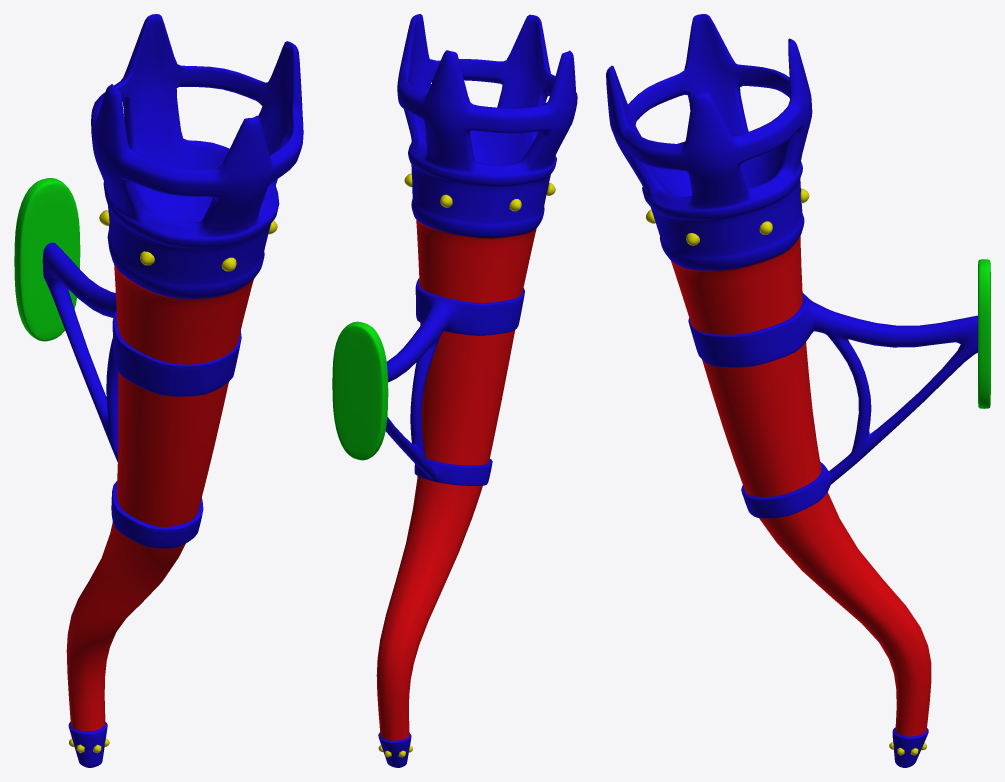
The model's file is FBXtorch.fbx.
The picture shows the model from 3 angles, left to right: view 1: azimuth 30°, elevation 25°; view 2: azimuth 150°, elevation 25°; view 3: azimuth 270°, elevation 25°; orthographic projection. The views are drawn at different scales.
Visible parts, largest first — view 1: torch_low; view 2: torch_low; view 3: torch_low.
Boxes of the visible parts, box(x1,y1,x2,y2) form: torch_low: box(14, 14, 303, 767); torch_low: box(332, 14, 577, 767); torch_low: box(606, 14, 990, 767).
Size of the model in its own units: 16.47 by 63.85 by 30.67.
